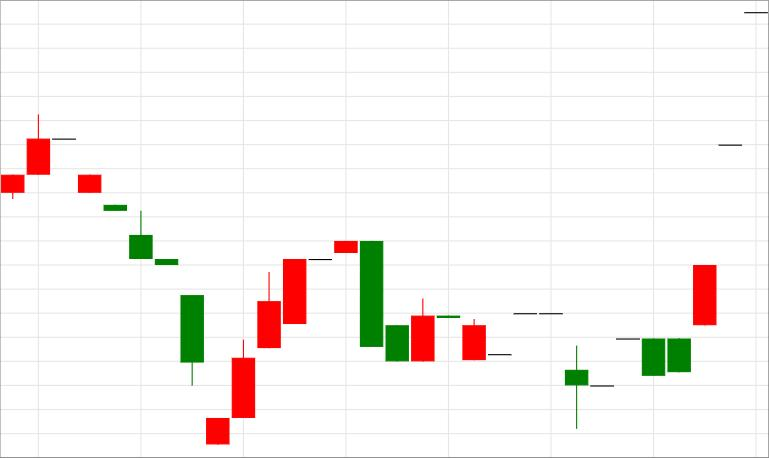bearish_engulfing_fall: (207, 242, 383, 445)
